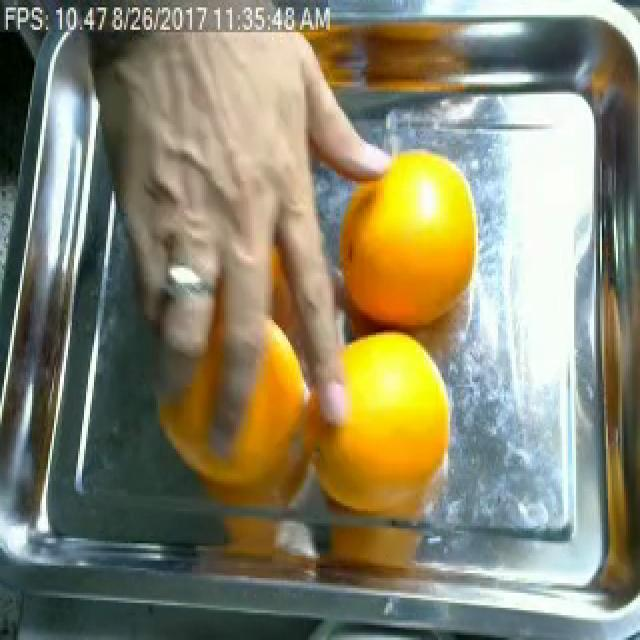Fruit: (318, 124, 478, 350)
